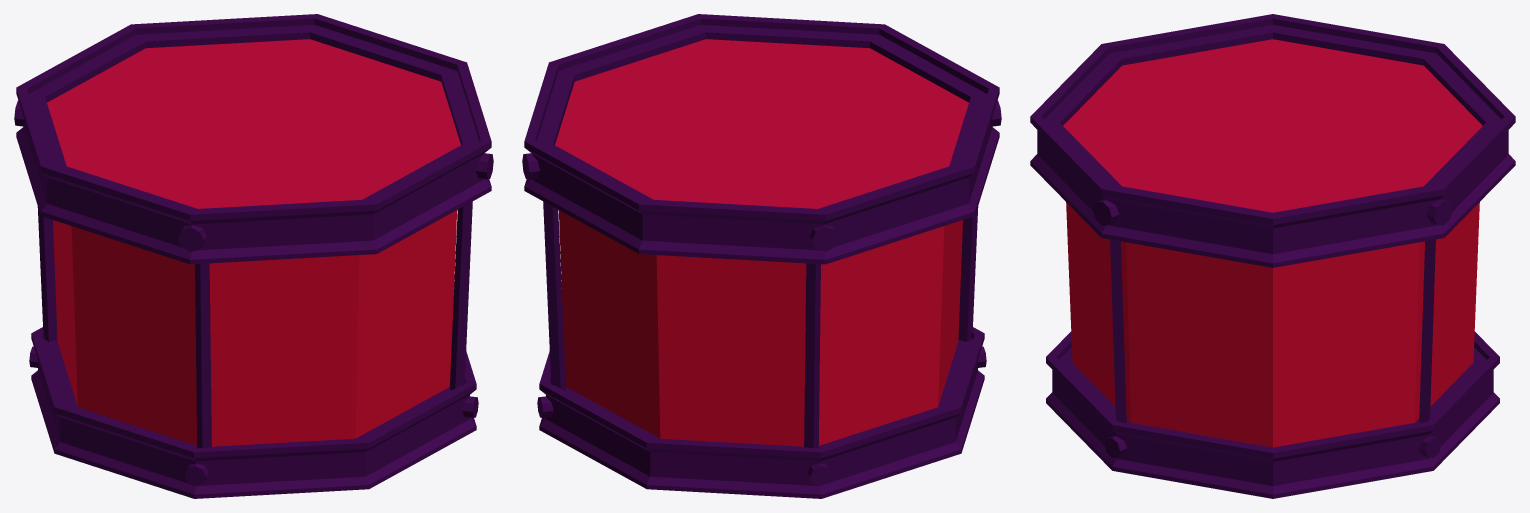
The model's file is Drum_01.fbx.
3 views of the same model, side by side, from view 1: azimuth 30°, elevation 25°; view 2: azimuth 150°, elevation 25°; view 3: azimuth 270°, elevation 25° (orthographic).
Visible parts, largest first — view 1: Drum_01; view 2: Drum_01; view 3: Drum_01.
Boxes of the visible parts, x1=… form: Drum_01: x1=14, y1=14, x2=493, y2=498; Drum_01: x1=522, y1=14, x2=1001, y2=498; Drum_01: x1=1030, y1=14, x2=1515, y2=498.
Size of the model in its own units: 9.67 by 6.3 by 9.67.
